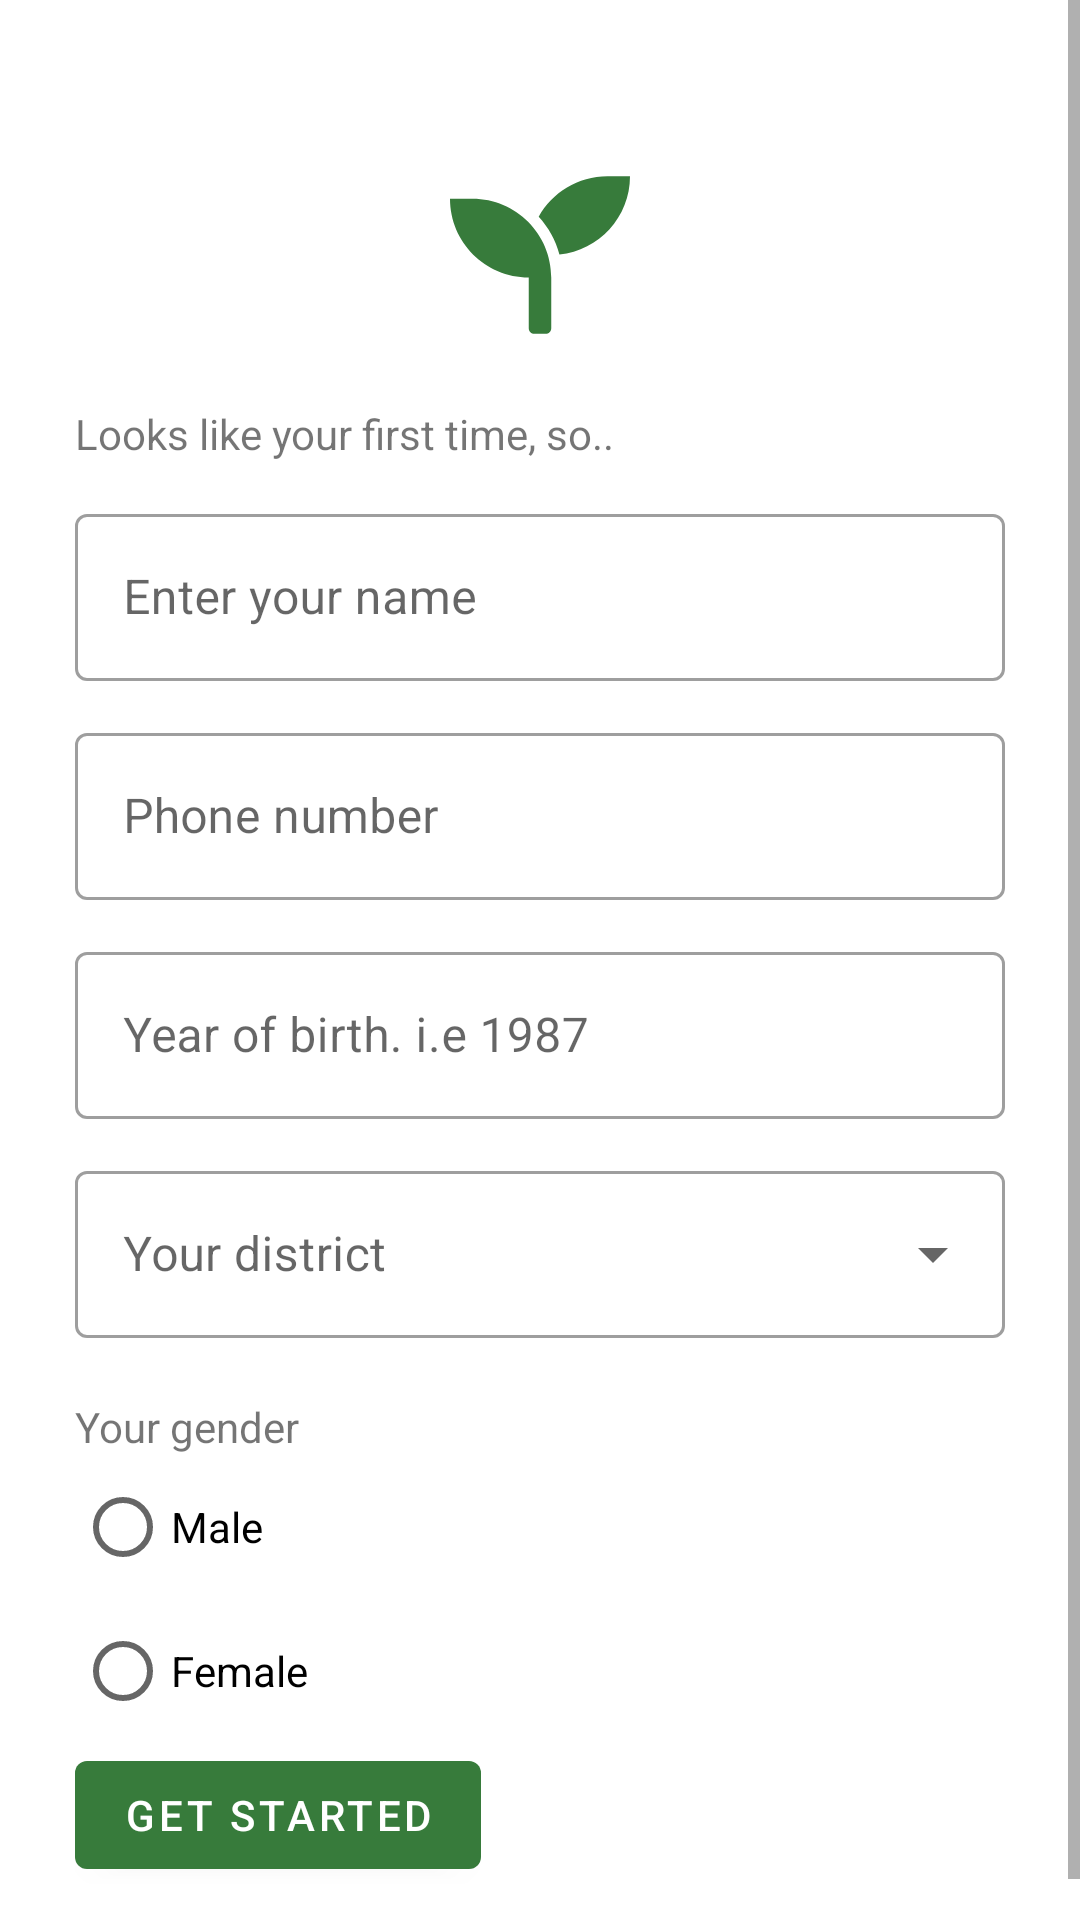

Icon click points for this 1080 × 1920 phone screenshot, format point (x, y):
seedling: point (540, 255)
